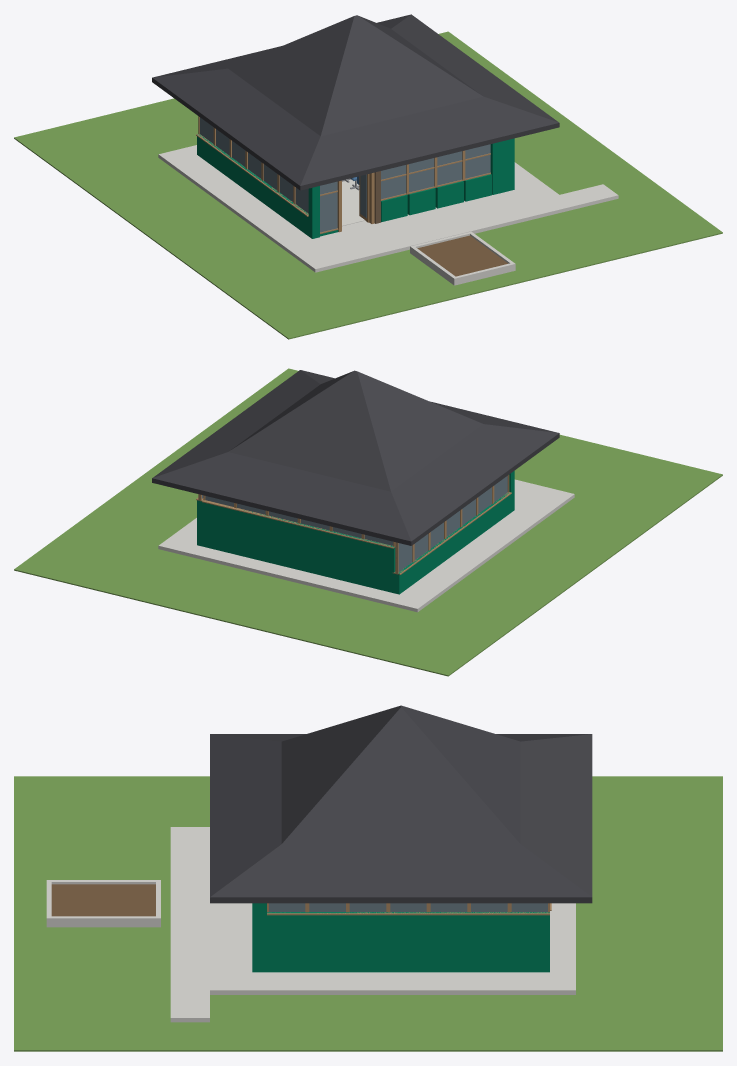
The model's file is apaporis.glb.
3 renders of one model, top to bottom at view 1: azimuth 30°, elevation 25°; view 2: azimuth 150°, elevation 25°; view 3: azimuth 270°, elevation 25°, orthographic. The views are drawn at different scales.
Visible parts, largest first — view 1: APAPORIS; view 2: APAPORIS; view 3: APAPORIS.
Part boxes in pixels (bbox=[...]): APAPORIS: bbox=[14, 14, 722, 339]; APAPORIS: bbox=[14, 368, 722, 676]; APAPORIS: bbox=[14, 705, 722, 1051].
Size of the model in its own units: 19.84 by 7.04 by 21.72.
